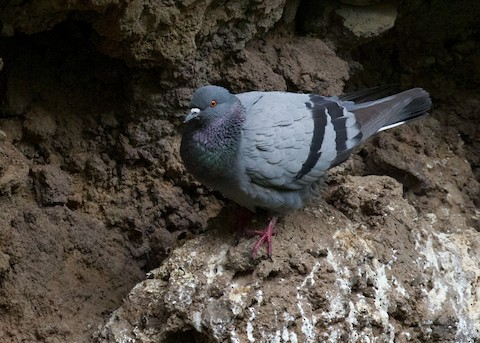pigeon: (184, 76, 436, 263)
